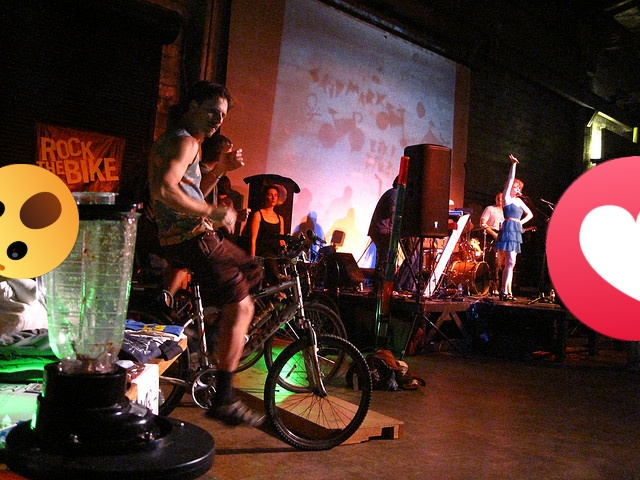love: (546, 156, 640, 341)
wow: (0, 164, 79, 279)
